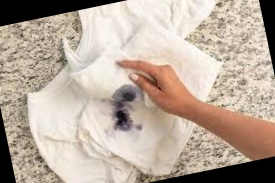ink: (111, 85, 137, 106), (112, 108, 133, 131)
